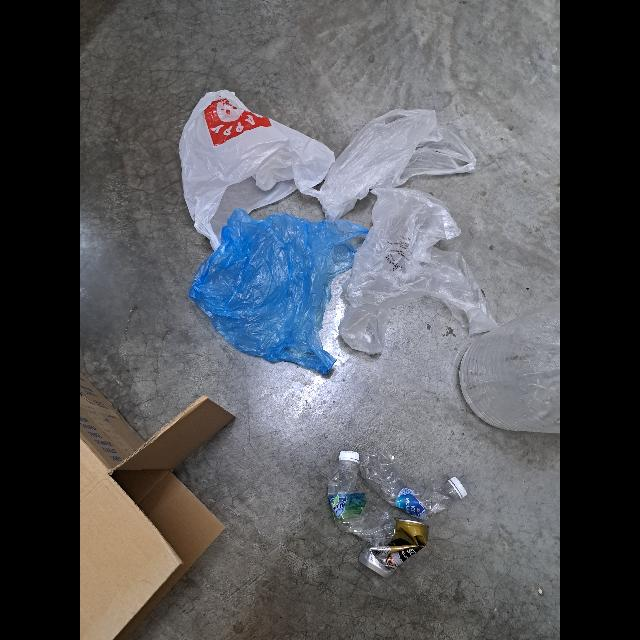garrafa plástica: (458, 297, 560, 437), (372, 444, 450, 516), (331, 469, 385, 539)
lata: (368, 514, 427, 578)
papelão: (80, 354, 234, 640)
sacola plástica: (194, 213, 342, 391), (344, 186, 484, 368), (176, 94, 330, 252), (318, 107, 487, 217)
tampa plástica: (446, 472, 466, 498), (340, 444, 360, 466)
